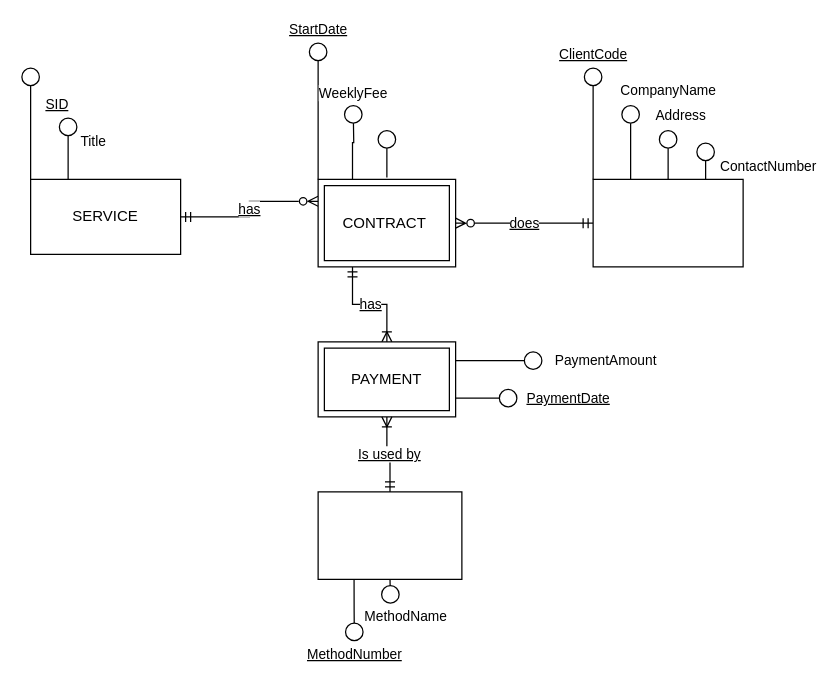
This 838x685 diagram has some shape labels left out. The shapes that lost their labels are listed below. From the top down, each one's centre as x and y in pixels, then its label:
the point at 667,222: CLIENT
the point at 389,535: PAYMENTMETHOD
